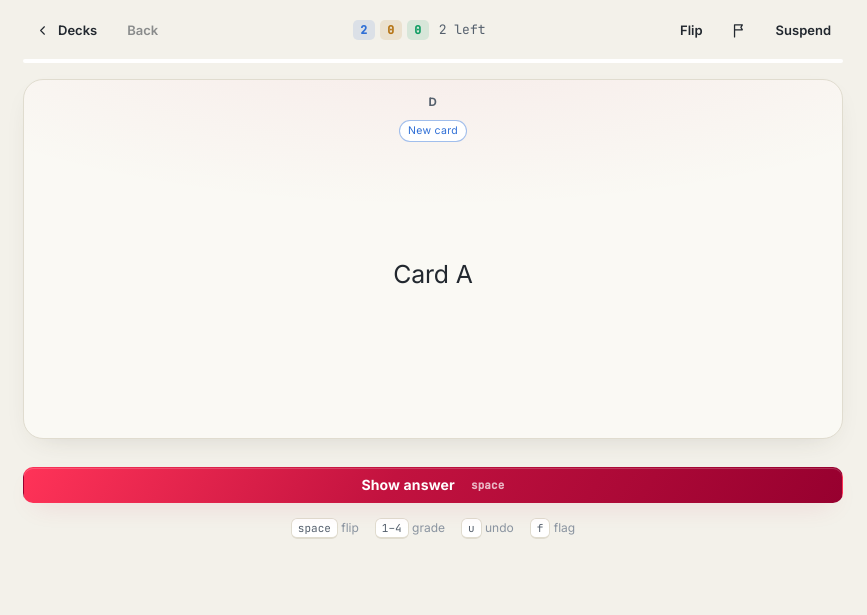
it: sibling cards are held back › leaves ordinary cards completely alone
This screenshot has width=867, height=615.
Click the button "Show answer space". click: [433, 485]
box: [23, 467, 843, 503]
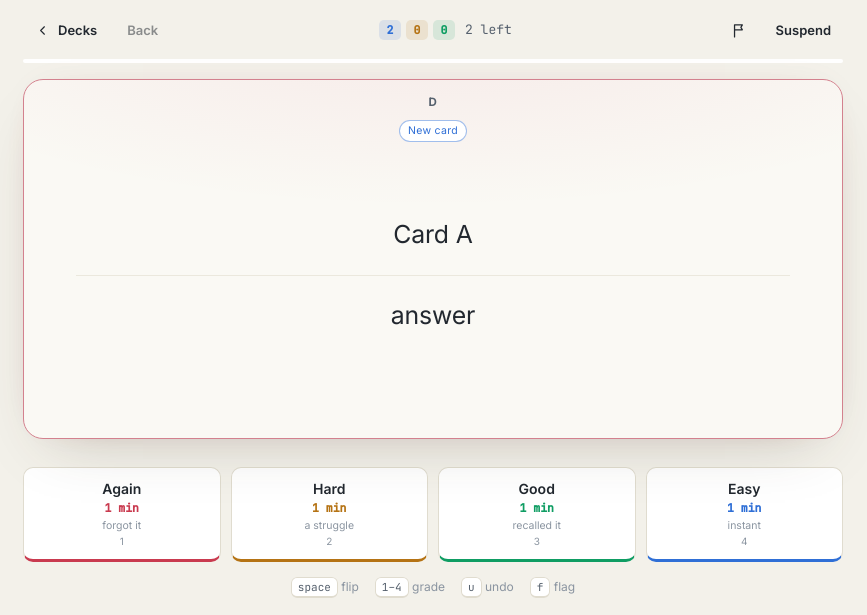
Click the text "Good". click: [537, 488]
box: [519, 480, 555, 497]
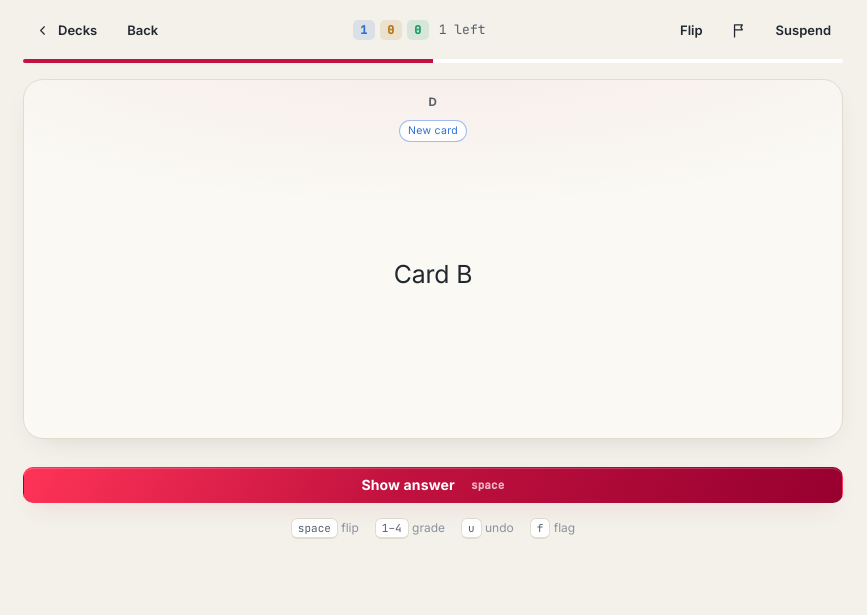
Result: the text "Card B" is shown at [394, 259, 472, 289]
